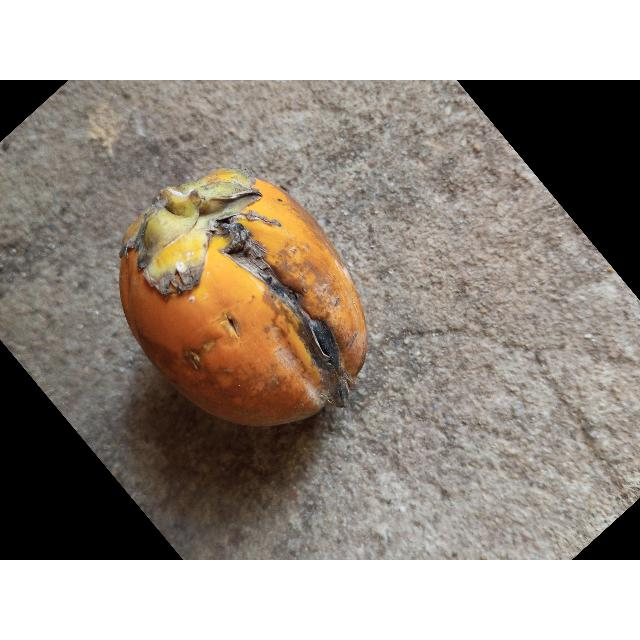damaged: (117, 169, 368, 429)
